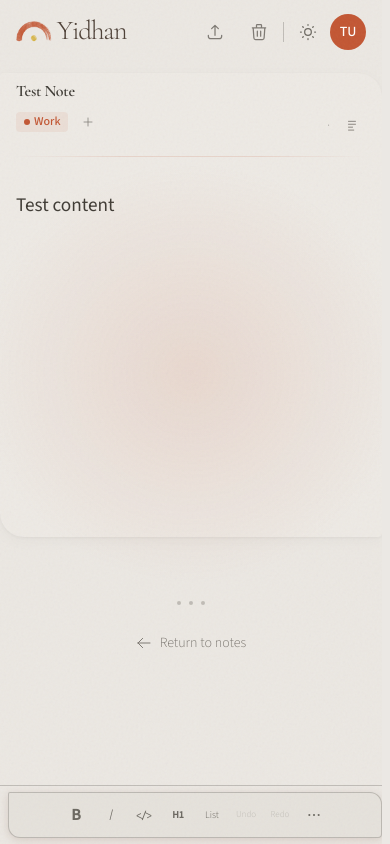
Scenario: Editor › delete confirmation › closes confirmation when clicking backdrop
The image size is (390, 844).
Click the button named "Delete note".
click(259, 32)  # box x1=241 y1=14 x2=277 y2=50
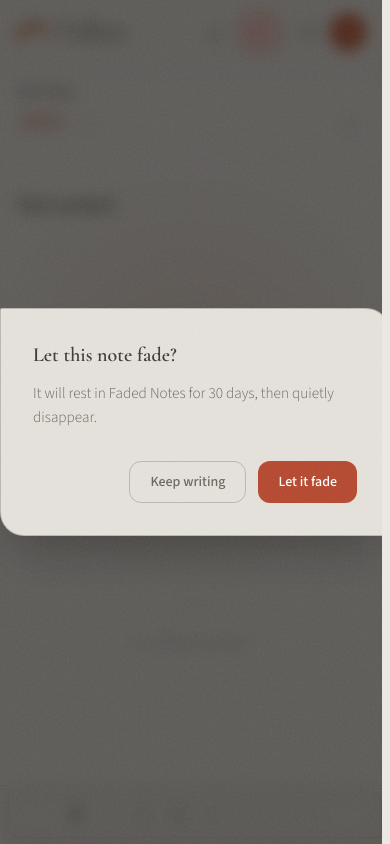
Click the button named "Cancel deleting note".
click(195, 793)  # box x1=0 y1=0 x2=389 y2=843
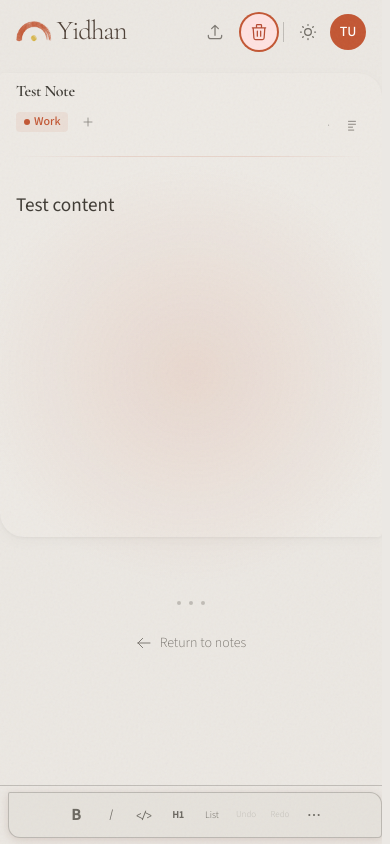
Expected: the heading "Let this note fade?" is gone
